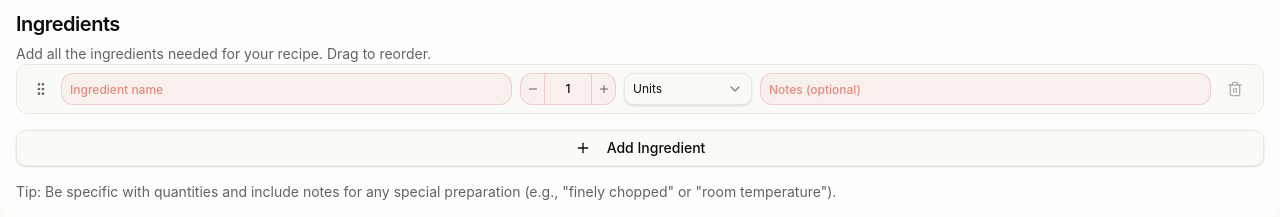
Test: IngredientsStep › Quantity input smart stepping › should increment quantity by 0.5 for medium values
This screenshot has width=1280, height=217.
// Set initial value to 10
Step 1. Replace the text in the number field named "ingredient 1 quantity" with "10" → (568, 89), box left=545, top=81, right=591, bottom=97
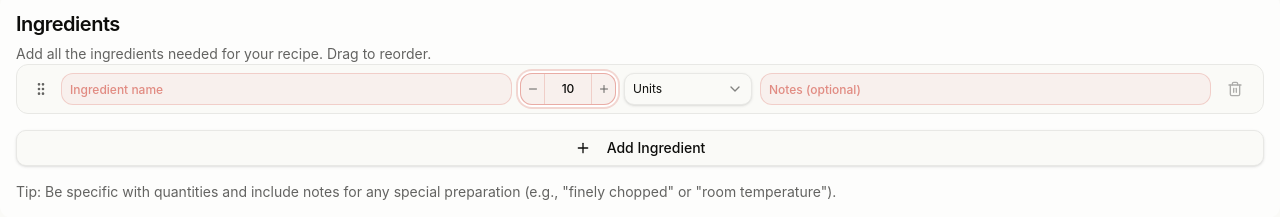
Step 2. Click the button named "Increase quantity" → (603, 89), box left=591, top=74, right=615, bottom=104
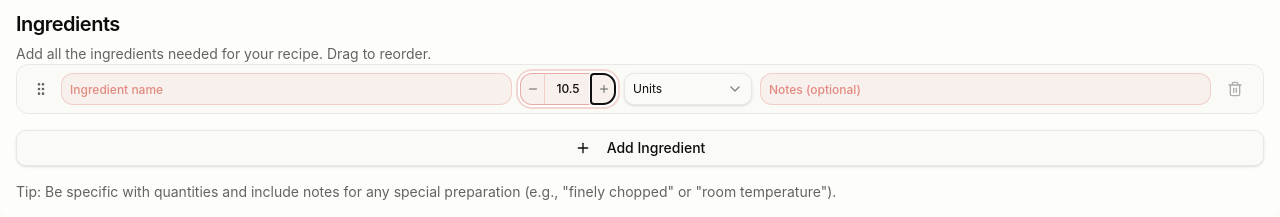
Expected: the number field named "ingredient 1 quantity" holds "10.5", left=545, top=81, right=591, bottom=97
